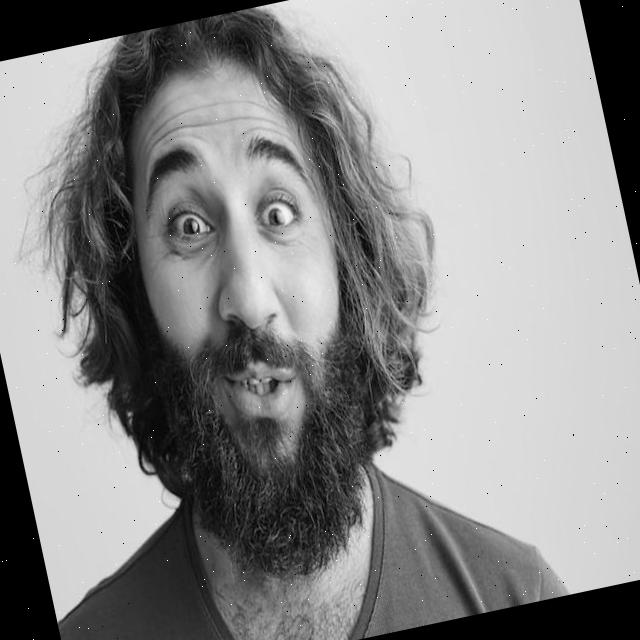Surprised: (102, 51, 396, 585)
